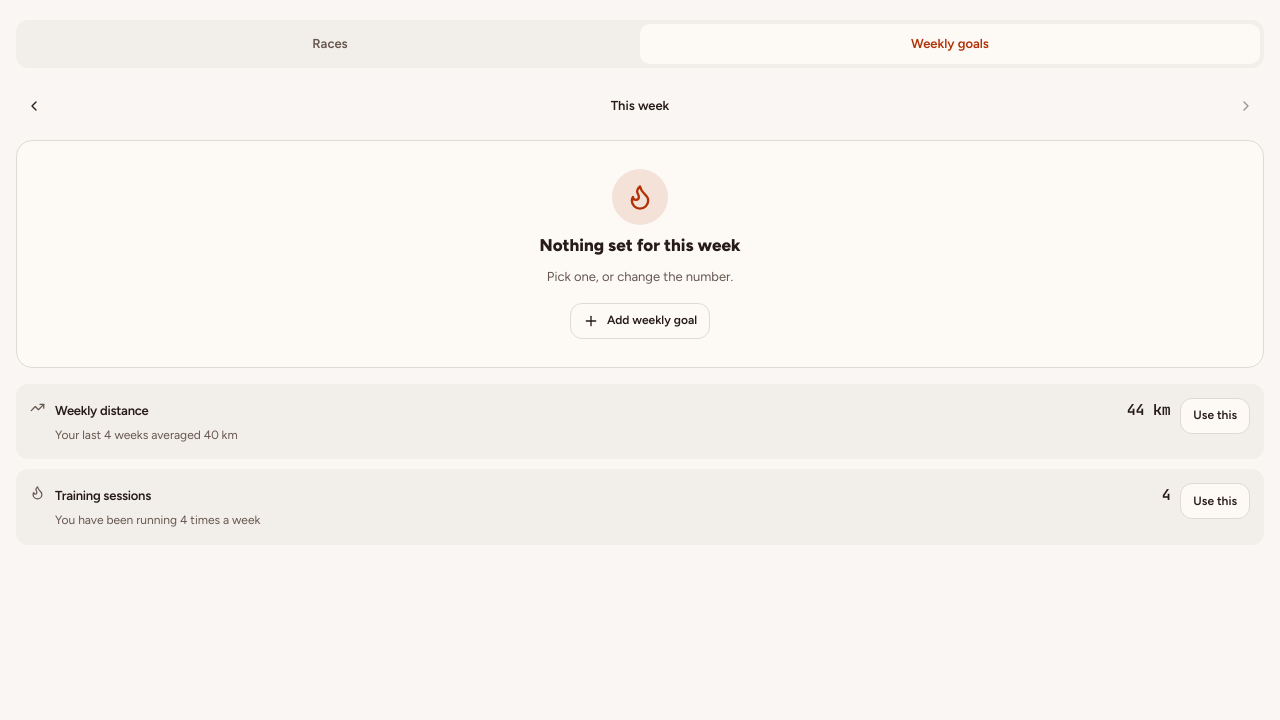
it: GoalsScreen — suggested weekly targets › does not suggest for a week that has already gone
Click the button named "previous week" at point(34, 106), box [16, 88, 52, 124]
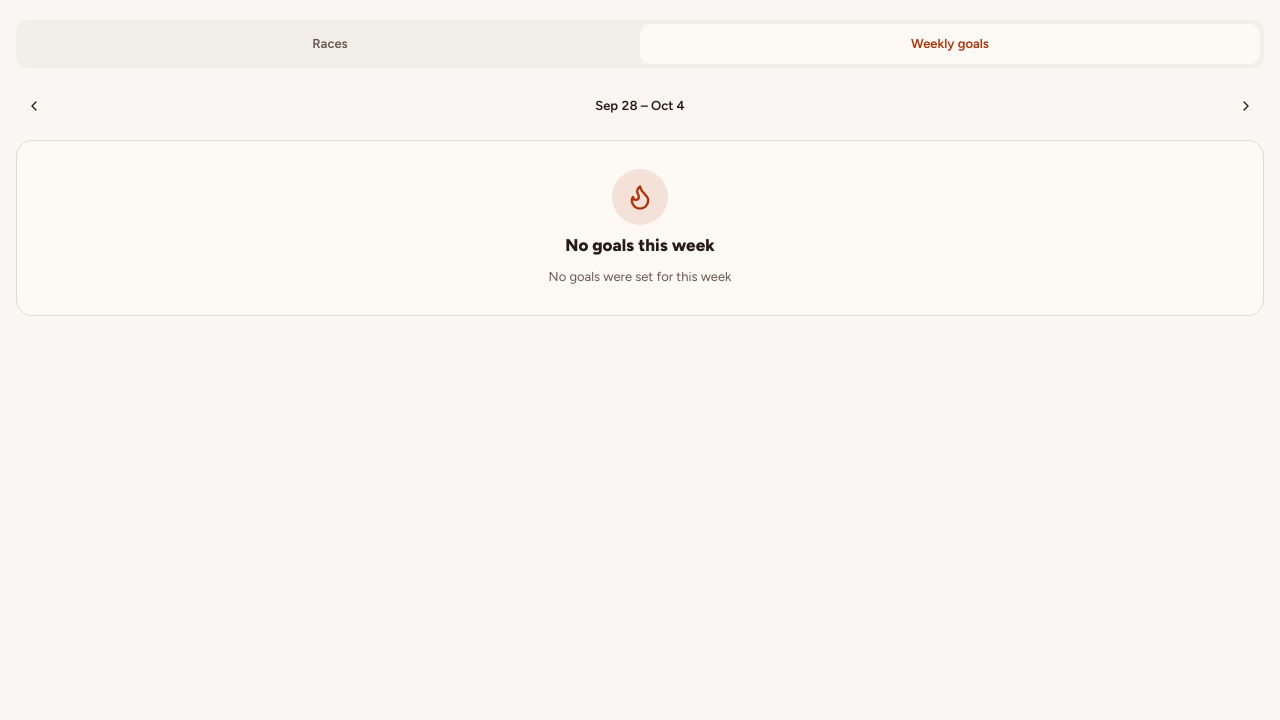
Result: the button "Use this" is gone
